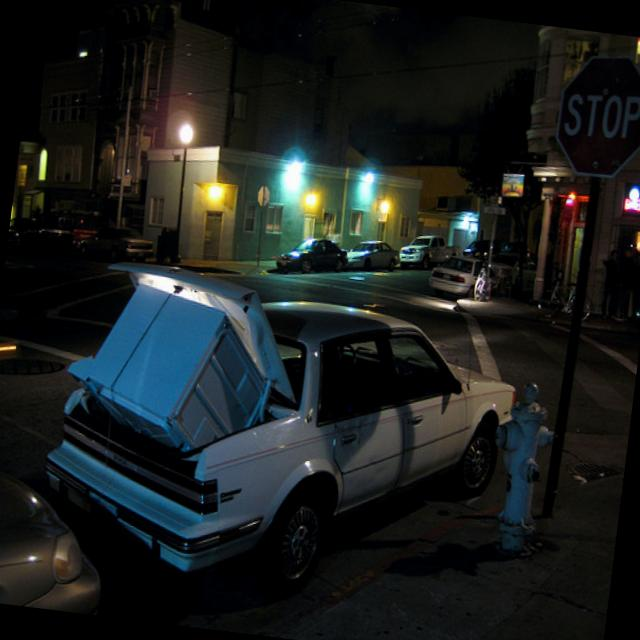Vehicle: (36, 257, 525, 622), (76, 222, 156, 268), (274, 232, 352, 278), (426, 247, 484, 300), (343, 236, 402, 276), (33, 210, 78, 260), (620, 288, 640, 345), (72, 216, 102, 249)
